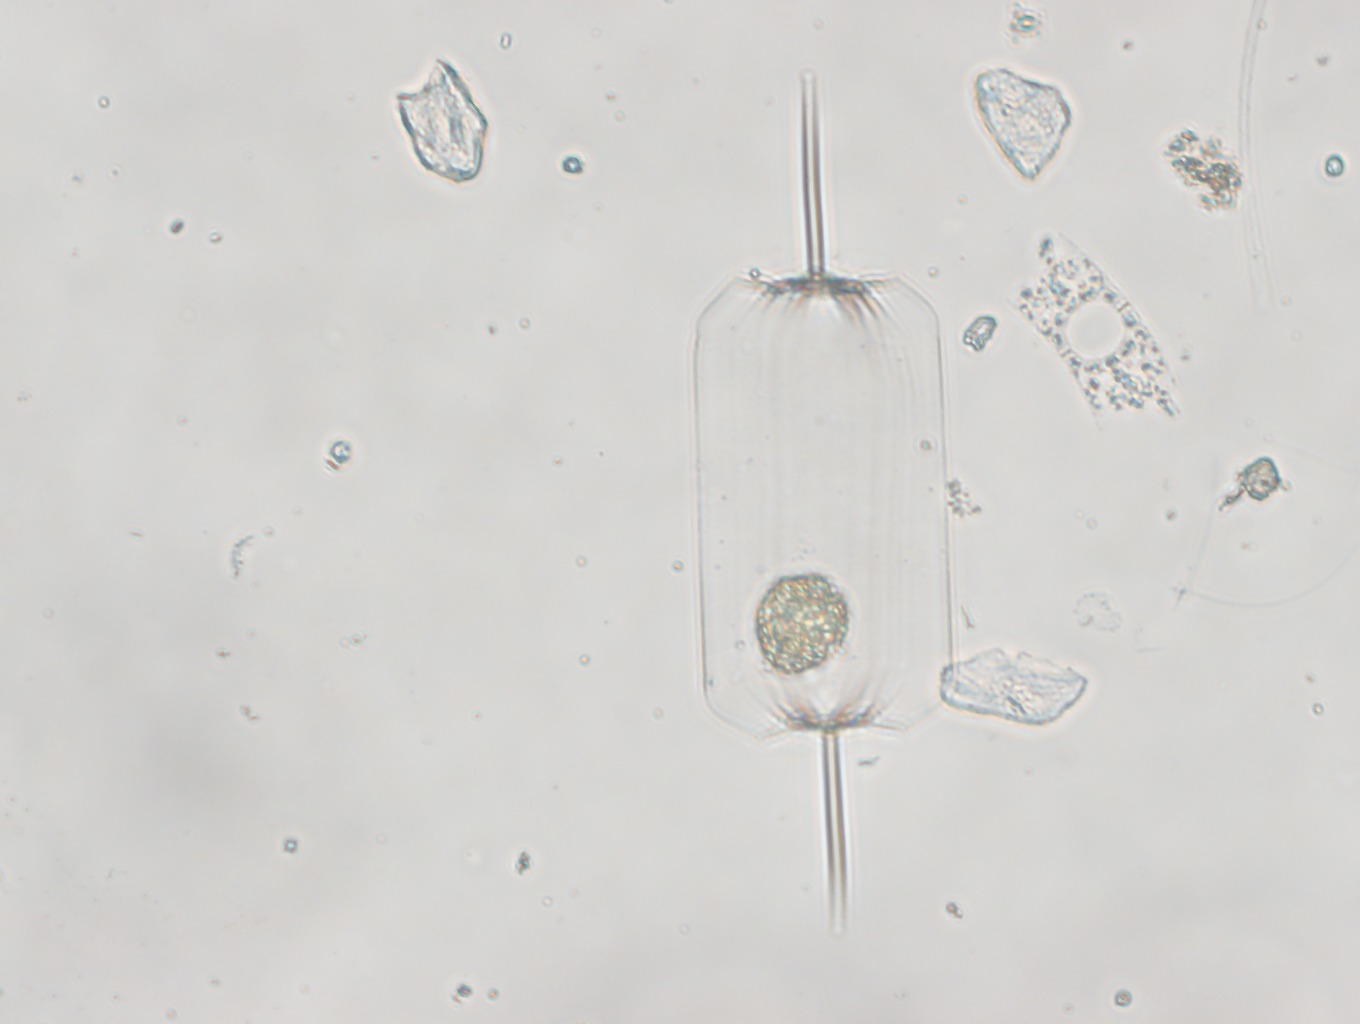ditylum: (693, 73, 951, 931)
eucampia: (1006, 227, 1187, 423)
